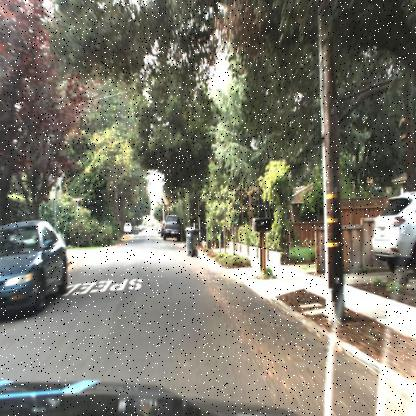car: (0, 221, 68, 324), (370, 191, 416, 274), (160, 211, 181, 242), (120, 216, 134, 240)
